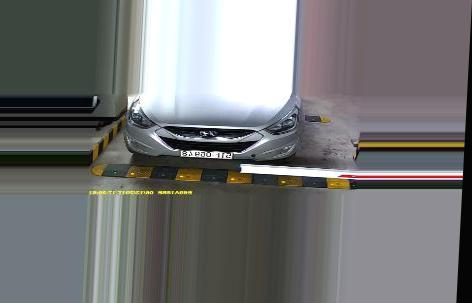License_Plate: (178, 149, 232, 160)
